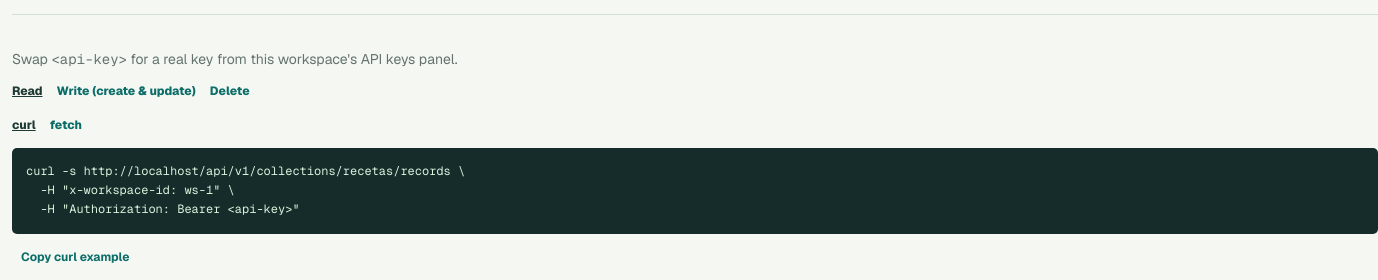
Scenario: ApiExamplePanel › switches to a delete example targeting a record id when Delete is picked
What coordinates should you click on to do the following:
click the button "Delete"
I would click on:
 (230, 91)
Its box is [210,78,250,104].
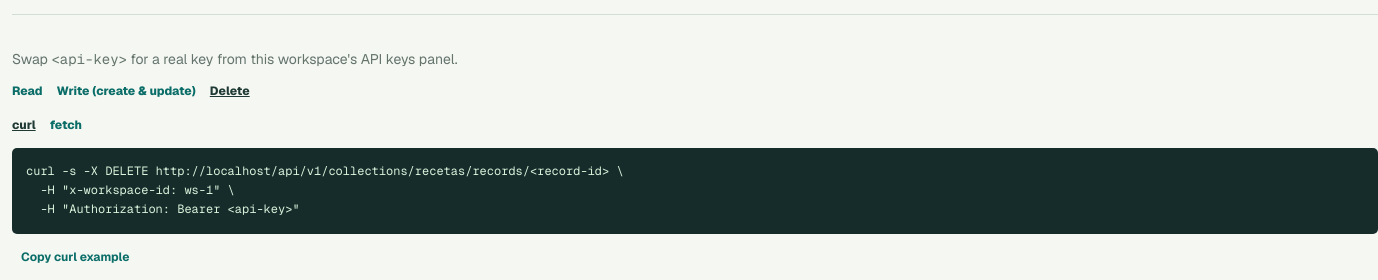
Now the text with class "api-example-snippet" shows "-X DELETE", box [26,163,624,217]
